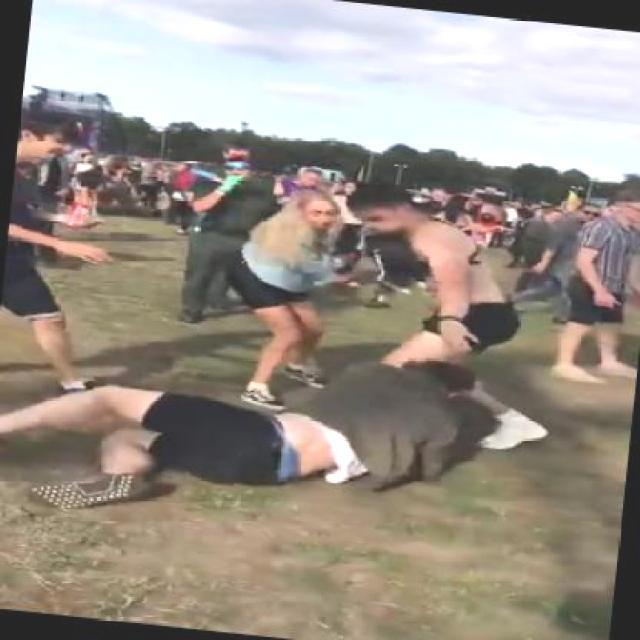fight: (307, 176, 564, 484)
non-fight: (214, 177, 346, 405)
